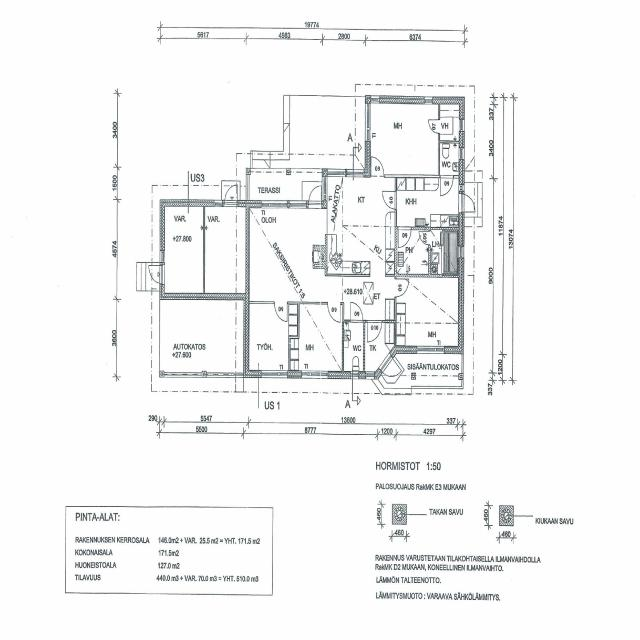door: (380, 353, 402, 386), (147, 265, 165, 284), (367, 320, 382, 342), (309, 182, 321, 209), (225, 182, 238, 206), (459, 194, 476, 212), (371, 156, 384, 177), (440, 174, 453, 195), (394, 278, 409, 296), (398, 227, 411, 247), (382, 191, 396, 209), (328, 301, 340, 321), (274, 301, 286, 321), (350, 302, 362, 322), (419, 231, 430, 245), (428, 120, 439, 132)
